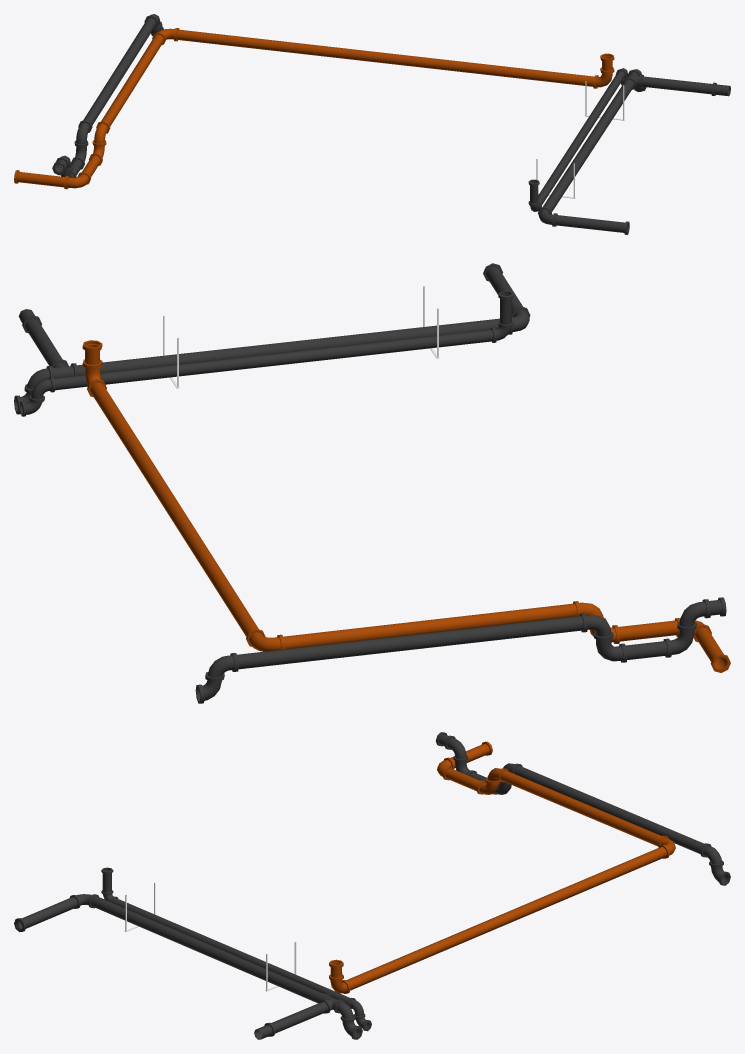
The model's file is SM_H_Building_Tide_WardenBoxroom_08b_ATLAS.fbx.
3 views of the same model, one above another, from view 1: azimuth 30°, elevation 25°; view 2: azimuth 150°, elevation 25°; view 3: azimuth 270°, elevation 25° (orthographic). The views are drawn at different scales.
Visible parts, largest first — view 1: SM_H_Building_Tide_WardenBoxroom_08b_ATLAS; view 2: SM_H_Building_Tide_WardenBoxroom_08b_ATLAS; view 3: SM_H_Building_Tide_WardenBoxroom_08b_ATLAS.
Part boxes in pixels (x1,y1,x2,y2): SM_H_Building_Tide_WardenBoxroom_08b_ATLAS: (14, 14, 730, 234); SM_H_Building_Tide_WardenBoxroom_08b_ATLAS: (14, 263, 730, 703); SM_H_Building_Tide_WardenBoxroom_08b_ATLAS: (14, 732, 730, 1039).
Size of the model in its own units: 1735 by 1694 by 160.
